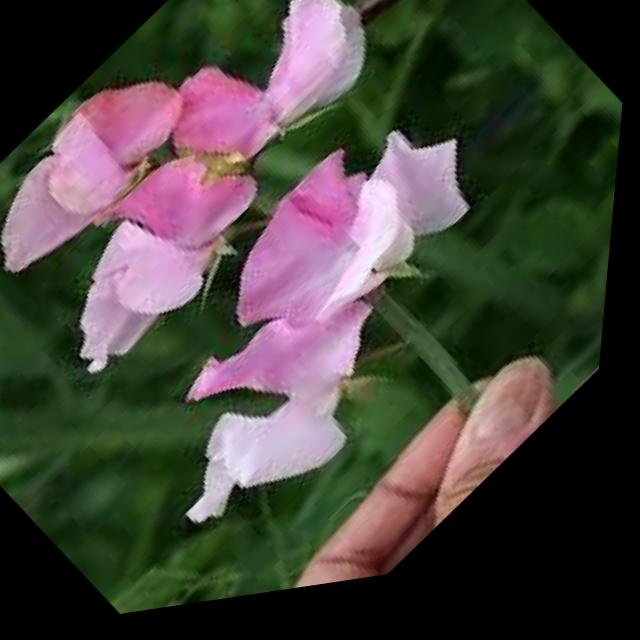Flower: (113, 72, 543, 509)
